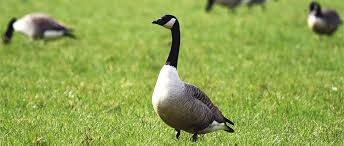goose: (149, 13, 236, 145), (1, 11, 78, 47), (305, 1, 344, 37)
